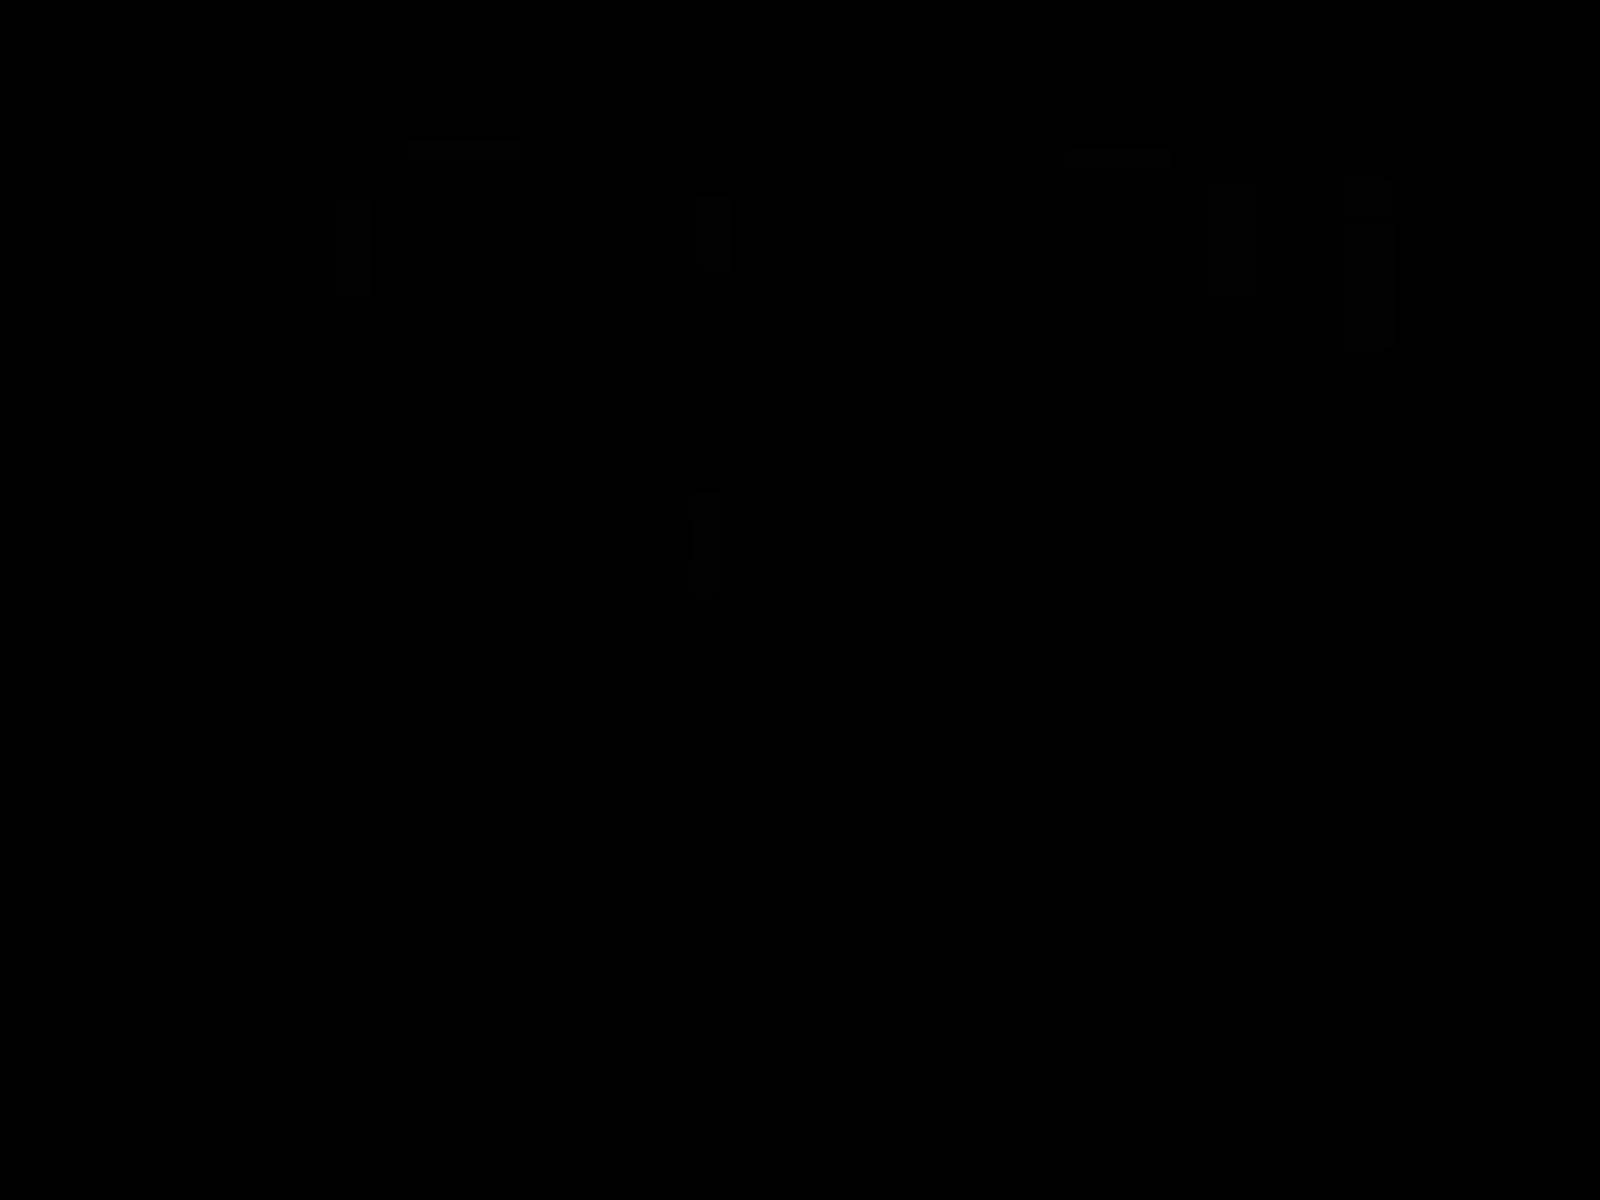1_overall: (67, 61, 1511, 1006)
3_typography: (1347, 226, 1397, 349), (1209, 185, 1259, 294), (334, 199, 372, 297), (692, 492, 719, 597), (698, 195, 733, 270), (409, 140, 520, 160), (1066, 147, 1172, 168)
4_illustration: (837, 164, 1385, 976), (166, 217, 357, 865), (449, 194, 697, 521), (443, 558, 703, 865)
5_stamp: (1347, 179, 1391, 218)
